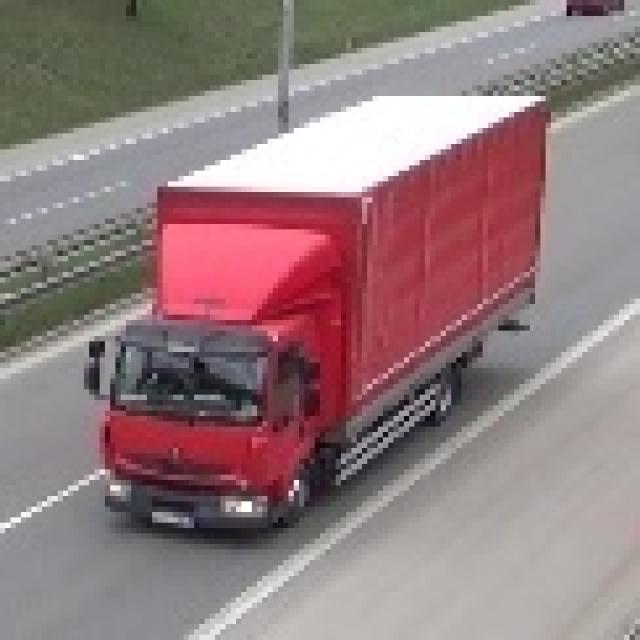truck: (78, 80, 546, 533)
